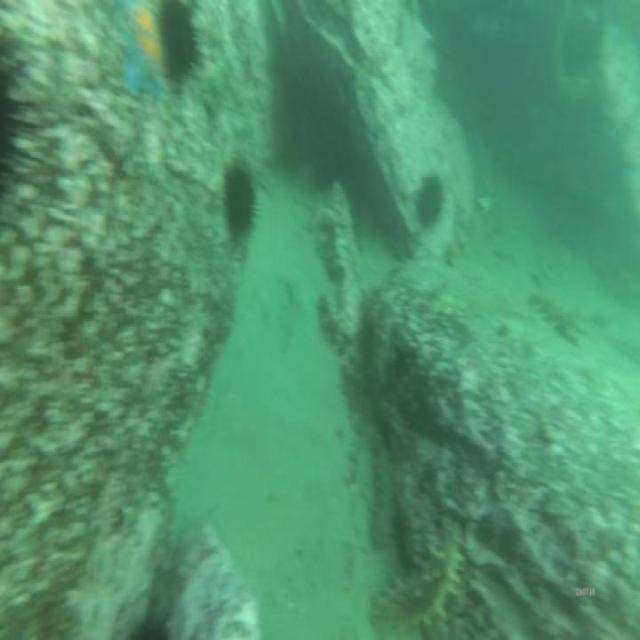echinus: (158, 0, 202, 90), (221, 156, 257, 246), (414, 171, 450, 232)
holothurian: (366, 518, 468, 638)
starfish: (120, 1, 166, 100)
